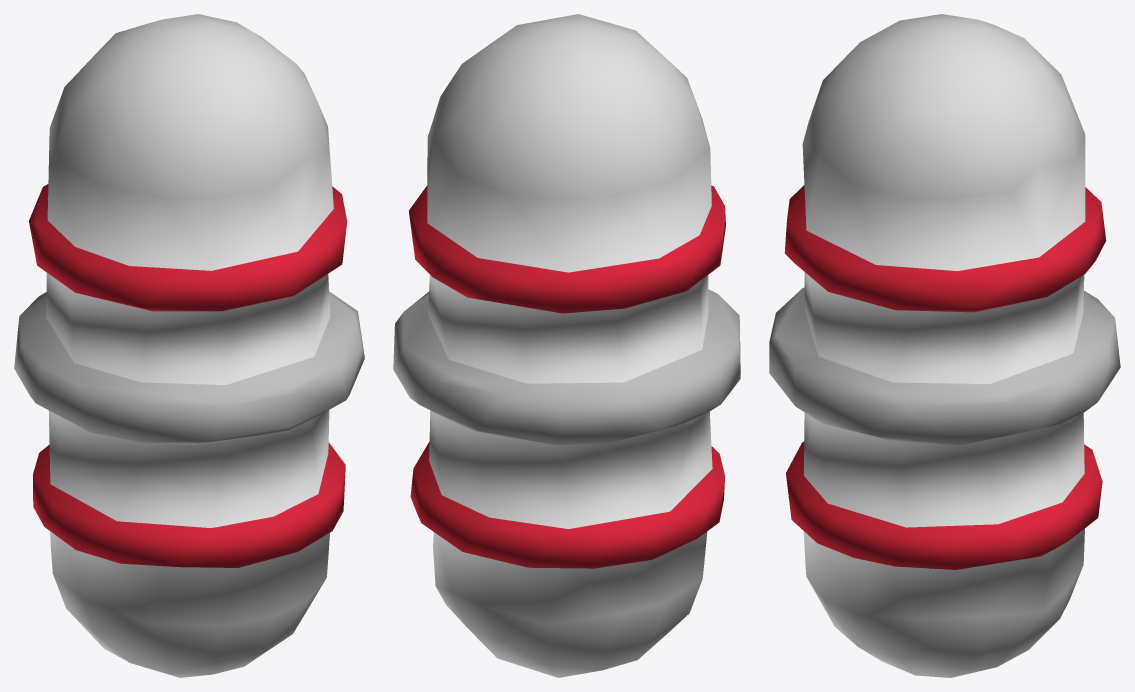
File: BMBSilverCanister.fbx
The picture shows the model from 3 angles, left to right: view 1: azimuth 30°, elevation 25°; view 2: azimuth 150°, elevation 25°; view 3: azimuth 270°, elevation 25°; orthographic projection.
Parts seen in each view (by area): view 1: Water Container Silver; view 2: Water Container Silver; view 3: Water Container Silver.
Boxes of the visible parts, bbox=[...] form: Water Container Silver: bbox=[14, 14, 364, 677]; Water Container Silver: bbox=[393, 14, 740, 677]; Water Container Silver: bbox=[769, 14, 1120, 677].
Size of the model in its own units: 246 by 493 by 247.
